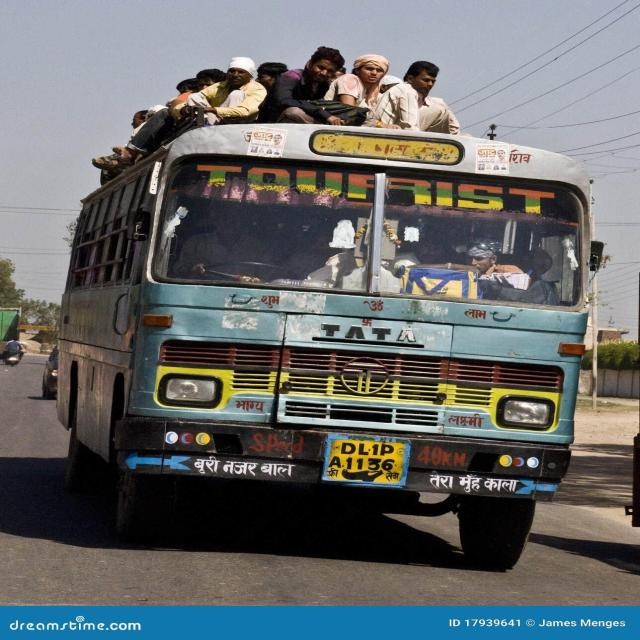bus: (57, 46, 604, 570)
